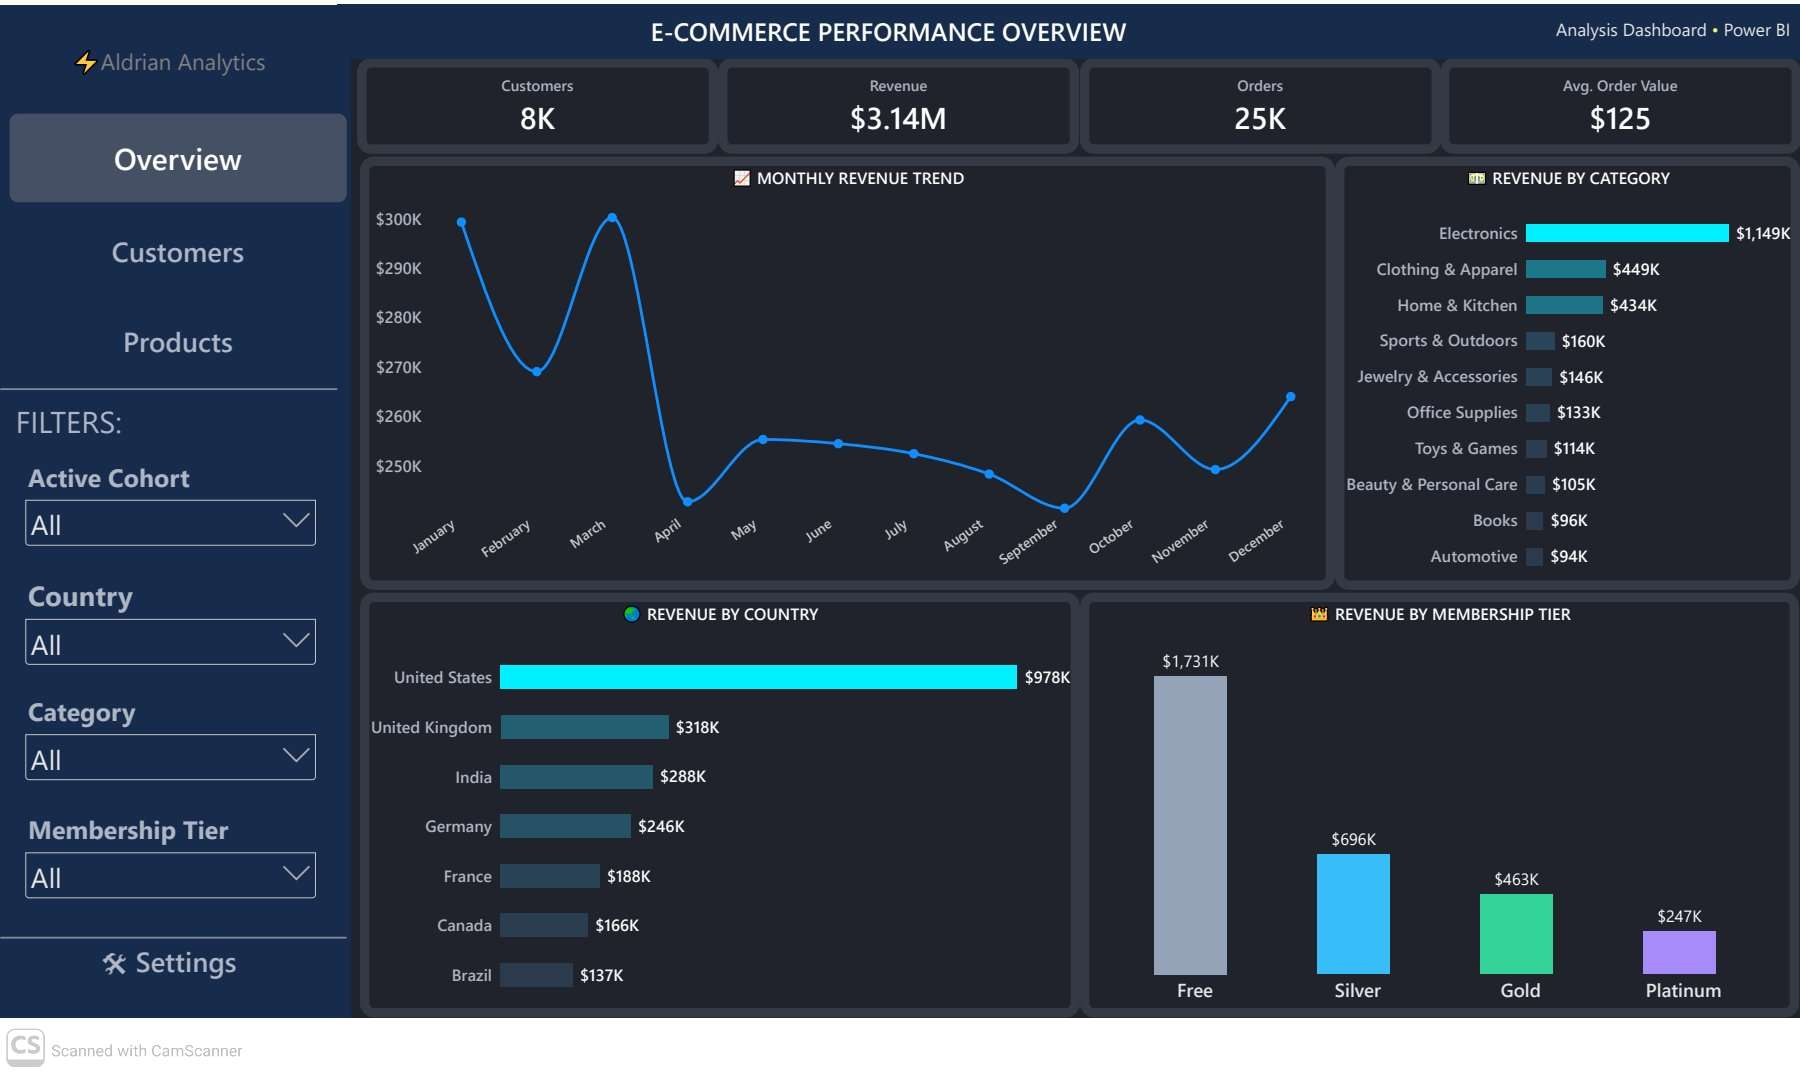

The dashboard page shown, as its layout file describes it:
{"tool":"powerbi","page":{"name":"Executive  View","canvas":[1920,1080],"ordinal":0},"visuals":[{"type":"cardVisual","fields":{"Data":["orders_cleaned_dataset csv.Total Revenue"]},"box":[766,57,385,102],"z":0},{"type":"cardVisual","fields":{"Data":["orders_cleaned_dataset csv.Total Orders"]},"box":[1152,57,385,102],"z":1000},{"type":"cardVisual","fields":{"Data":["customers_cleaned_dataset csv.Total Customers"]},"box":[381,57,385,102],"z":2000},{"type":"cardVisual","fields":{"Data":["orders_cleaned_dataset csv.Average Order Value Measure"]},"box":[1536,57,385,102],"z":3000},{"type":"lineChart","title":"📈 MONTHLY REVENUE TREND","fields":{"Category":["orders_cleaned_dataset csv.order_date.Variation.Date Hierarchy.Month"],"Y":["orders_cleaned_dataset csv.Total Revenue"]},"box":[384,162,1040,462],"z":4000},{"type":"barChart","title":"🌏 REVENUE BY COUNTRY","fields":{"Category":["customers_cleaned_dataset csv.country"],"Y":["orders_cleaned_dataset csv.Total Revenue"]},"box":[384,627,768,453],"z":5000},{"type":"barChart","title":"💵 REVENUE BY CATEGORY","fields":{"Category":["orders_cleaned_dataset csv.category"],"Y":["orders_cleaned_dataset csv.Total Revenue"]},"box":[1424,162,496,462],"z":6000},{"type":"clusteredColumnChart","title":"👑 REVENUE BY MEMBERSHIP TIER","fields":{"Category":["customers_cleaned_dataset csv.membership_tier"],"Y":["orders_cleaned_dataset csv.Total Revenue"]},"box":[1152,627,767,453],"z":7000},{"type":"textbox","box":[360,0,1176,58],"z":8000},{"type":"shape","box":[0,0,374,1080],"z":10000},{"type":"group","id":"g1","title":"Group 1","box":[0,24,370,1056],"z":11000},{"type":"actionButton","box":[10,116,360,95],"z":11000,"group":"g1"},{"type":"textbox","box":[1536,0,384,58],"z":12000},{"type":"actionButton","box":[10,215,360,95],"z":12000,"group":"g1"},{"type":"actionButton","box":[10,311,360,95],"z":13000,"group":"g1"},{"type":"textbox","box":[0,408,360,75],"z":13000},{"type":"shape","box":[0,398,360,24],"z":14000},{"type":"slicer","fields":{"Values":["customers_cleaned_dataset csv.registration_date.Variation.Date Hierarchy.Year","customers_cleaned_dataset csv.registration_date.Variation.Date Hierarchy.Quarter","customers_cleaned_dataset csv.registration_date.Variation.Date Hierarchy.Month","customers_cleaned_dataset csv.registration_date.Variation.Date Hierarchy.Day"]},"box":[2,465,360,136.5],"z":14000,"group":"g1"},{"type":"slicer","fields":{"Values":["customers_cleaned_dataset csv.country"]},"box":[2,589.4,360,136.5],"z":15000,"group":"g1"},{"type":"shape","box":[0,984,370,22],"z":15000},{"type":"slicer","fields":{"Values":["orders_cleaned_dataset csv.category"]},"box":[2,715.5,360,136.5],"z":16000,"group":"g1"},{"type":"actionButton","box":[0,960,360,120],"z":17000,"group":"g1"},{"type":"textbox","box":[0,24,360,90],"z":18000,"group":"g1"},{"type":"slicer","fields":{"Values":["customers_cleaned_dataset csv.membership_tier"]},"box":[2,841.5,360,136.5],"z":19000,"group":"g1"}]}

Visuals, with their boxes on the page's 1920x1080 design canvas (x1, y1, x2, y2). These are canvas units, not pixel positions in the 1800x1074 screenshot, which may show the page scaled, cropped or inside an application window:
cardVisual - orders_cleaned_dataset csv.Total Revenue: Rect(766, 57, 1151, 159)
cardVisual - orders_cleaned_dataset csv.Total Orders: Rect(1152, 57, 1537, 159)
cardVisual - customers_cleaned_dataset csv.Total Customers: Rect(381, 57, 766, 159)
cardVisual - orders_cleaned_dataset csv.Average Order Value Measure: Rect(1536, 57, 1921, 159)
"📈 MONTHLY REVENUE TREND" lineChart: Rect(384, 162, 1424, 624)
"🌏 REVENUE BY COUNTRY" barChart: Rect(384, 627, 1152, 1080)
"💵 REVENUE BY CATEGORY" barChart: Rect(1424, 162, 1920, 624)
"👑 REVENUE BY MEMBERSHIP TIER" clusteredColumnChart: Rect(1152, 627, 1919, 1080)
textbox: Rect(360, 0, 1536, 58)
shape: Rect(0, 0, 374, 1080)
"Group 1" group: Rect(0, 24, 370, 1080)
actionButton: Rect(10, 116, 370, 211)
textbox: Rect(1536, 0, 1920, 58)
actionButton: Rect(10, 215, 370, 310)
actionButton: Rect(10, 311, 370, 406)
textbox: Rect(0, 408, 360, 483)
shape: Rect(0, 398, 360, 422)
slicer - customers_cleaned_dataset csv.registration_date.Variation.Date Hierarchy.Year x customers_cleaned_dataset csv.registration_date.Variation.Date Hierarchy.Quarter: Rect(2, 465, 362, 602)
slicer - customers_cleaned_dataset csv.country: Rect(2, 589, 362, 726)
shape: Rect(0, 984, 370, 1006)
slicer - orders_cleaned_dataset csv.category: Rect(2, 716, 362, 852)
actionButton: Rect(0, 960, 360, 1080)
textbox: Rect(0, 24, 360, 114)
slicer - customers_cleaned_dataset csv.membership_tier: Rect(2, 842, 362, 978)
